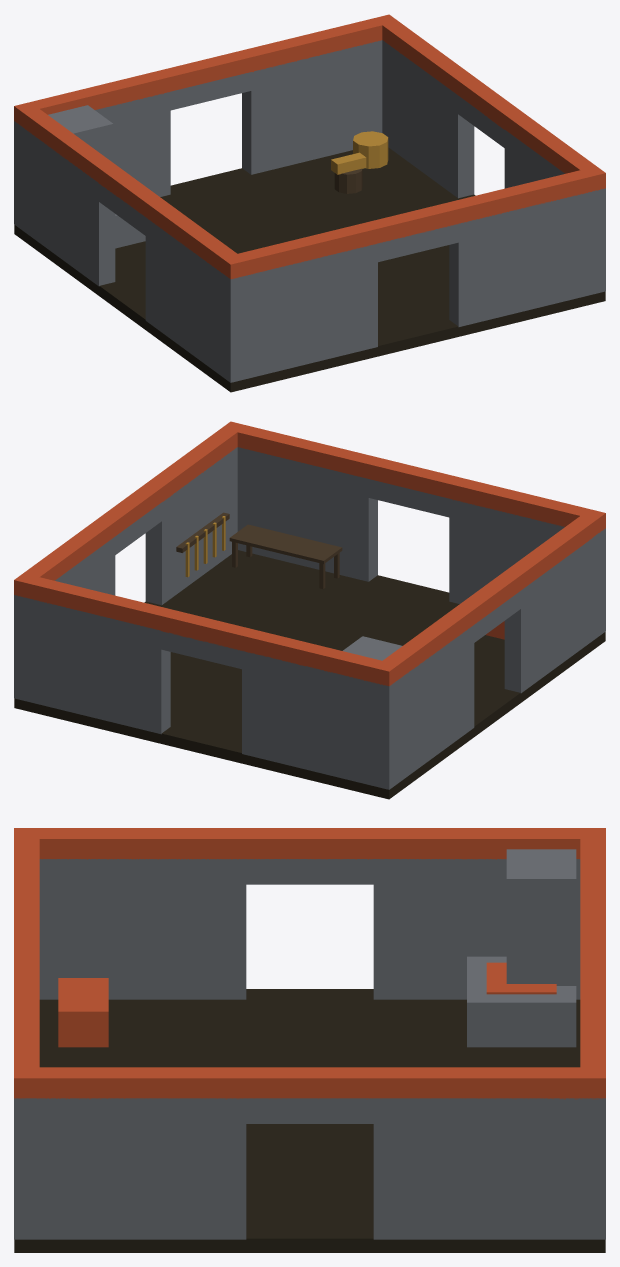
File: BlacksmithShop.fbx
3 views of the same model, one above another, from view 1: azimuth 30°, elevation 25°; view 2: azimuth 150°, elevation 25°; view 3: azimuth 270°, elevation 25° (orthographic). The views are drawn at different scales.
Visible parts, largest first — view 1: BlacksmithShop; view 2: BlacksmithShop; view 3: BlacksmithShop.
Part boxes in pixels (<box>): BlacksmithShop: <box>14,14,605,392</box>; BlacksmithShop: <box>14,421,605,799</box>; BlacksmithShop: <box>14,828,605,1252</box>.
Bounding box in the file's own units: 1202 × 392 × 1202.
Materials: 5 (5 with a texture image).
